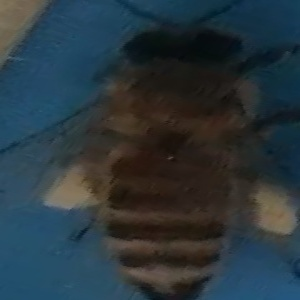bee: (40, 6, 295, 300)
